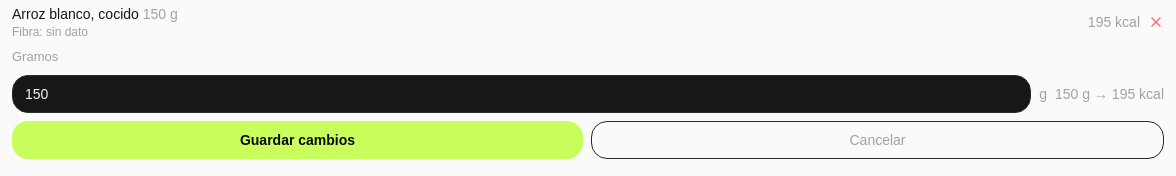
R2, R3, R6: editar los gramos o las unidades › R6: vista previa «100 g → 130 kcal» mientras se escribe
Replace the text in the field labelled "Gramos" with "100" at (522, 94), box [12, 75, 1031, 113]
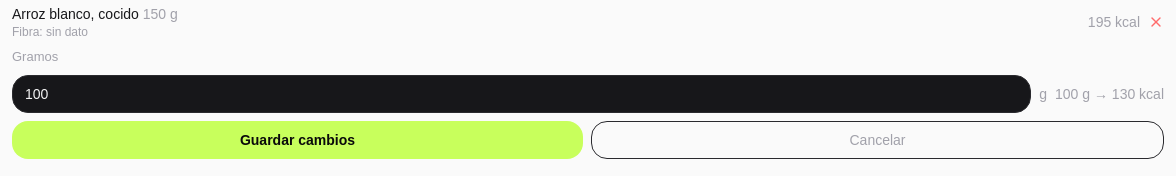
Check: the text "100 g → 130 kcal" is shown, box [1055, 84, 1164, 104]
